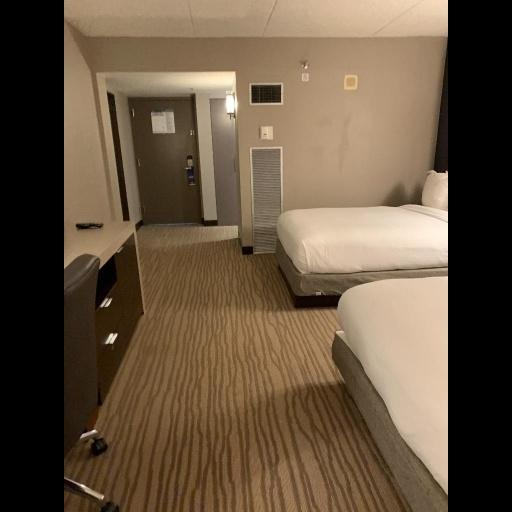chair: (66, 255, 123, 512)
clean_bed: (326, 273, 450, 511), (271, 170, 448, 307)
clean_floor: (70, 223, 417, 511)
organized table: (61, 215, 148, 396)
